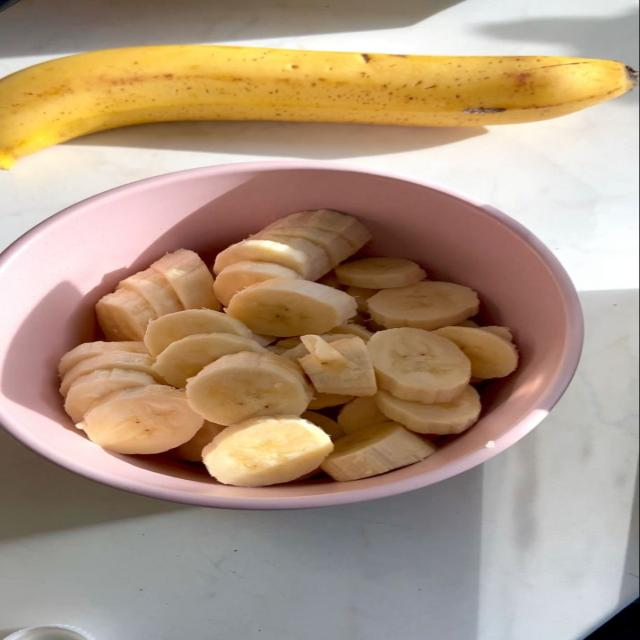banana slice: (203, 415, 333, 486), (187, 352, 311, 425), (78, 385, 203, 453), (368, 328, 471, 403), (227, 279, 356, 337), (321, 422, 435, 481), (153, 333, 265, 387), (369, 281, 479, 330), (144, 309, 254, 355), (375, 387, 481, 434), (65, 369, 156, 422), (214, 238, 331, 279), (60, 351, 163, 396), (300, 336, 377, 396), (266, 210, 371, 252), (433, 327, 518, 378), (151, 249, 220, 309), (252, 226, 354, 265), (215, 261, 301, 306), (59, 341, 147, 377), (96, 289, 157, 340), (118, 268, 184, 315), (336, 258, 425, 289), (167, 421, 226, 461), (338, 397, 389, 433), (301, 335, 349, 367), (302, 411, 345, 440), (346, 287, 379, 313), (308, 392, 354, 410), (330, 322, 372, 341), (284, 337, 309, 362), (476, 326, 513, 342), (318, 271, 344, 289), (276, 336, 301, 349), (252, 333, 277, 346), (348, 312, 367, 327), (365, 319, 385, 333), (265, 345, 287, 355), (457, 319, 479, 327)
unpeal banana: (0, 44, 636, 169)
